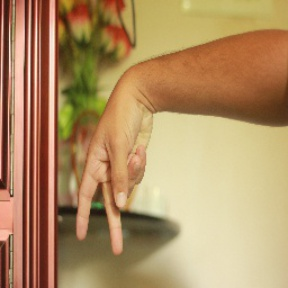Y: (71, 91, 156, 259)
